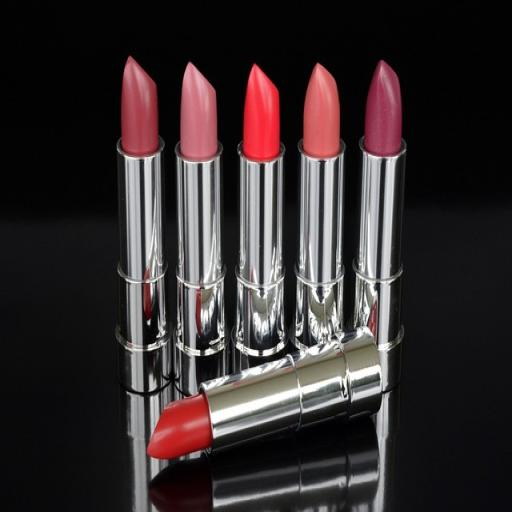lipstick: (148, 328, 381, 459), (148, 418, 379, 511), (116, 57, 171, 393), (174, 63, 227, 395), (353, 60, 406, 390), (232, 65, 287, 371), (290, 64, 344, 348)
